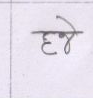e_matra: (57, 16, 77, 30)
